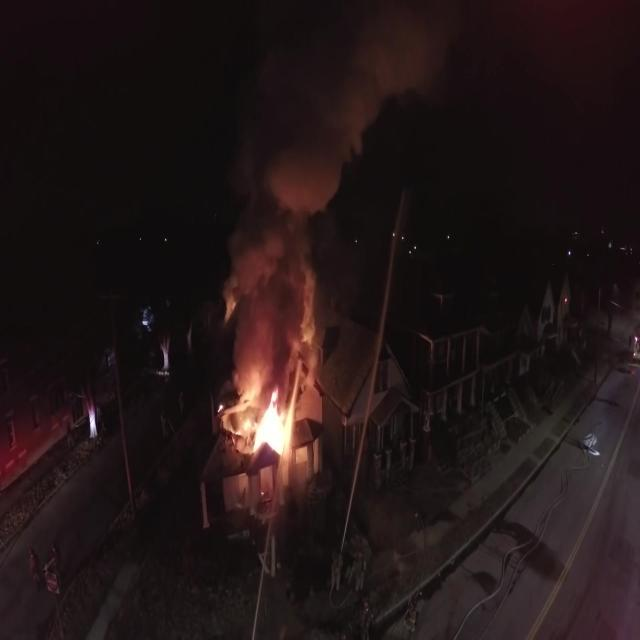Smoke: (244, 242, 294, 382)
